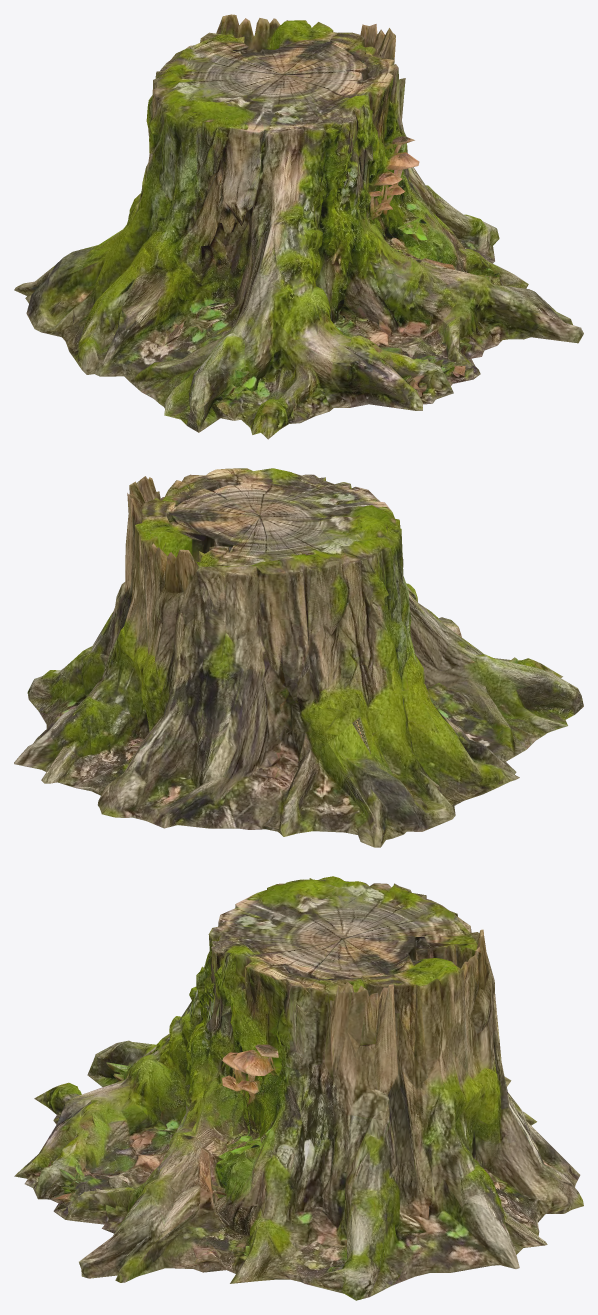
Rendered from tree-stump.glb.
The picture shows the model from 3 angles, top to bottom: view 1: azimuth 30°, elevation 25°; view 2: azimuth 150°, elevation 25°; view 3: azimuth 270°, elevation 25°; orthographic projection. The views are drawn at different scales.
Parts seen in each view (by area): view 1: Mesh_0; view 2: Mesh_0; view 3: Mesh_0.
Boxes of the visible parts, x1,y1,x2,y2 form: Mesh_0: (14, 14, 583, 439); Mesh_0: (14, 468, 583, 847); Mesh_0: (14, 876, 583, 1300).
Bounding box in the file's own units: 1.88 × 0.9562 × 1.9.
1 material, 1 textured.
